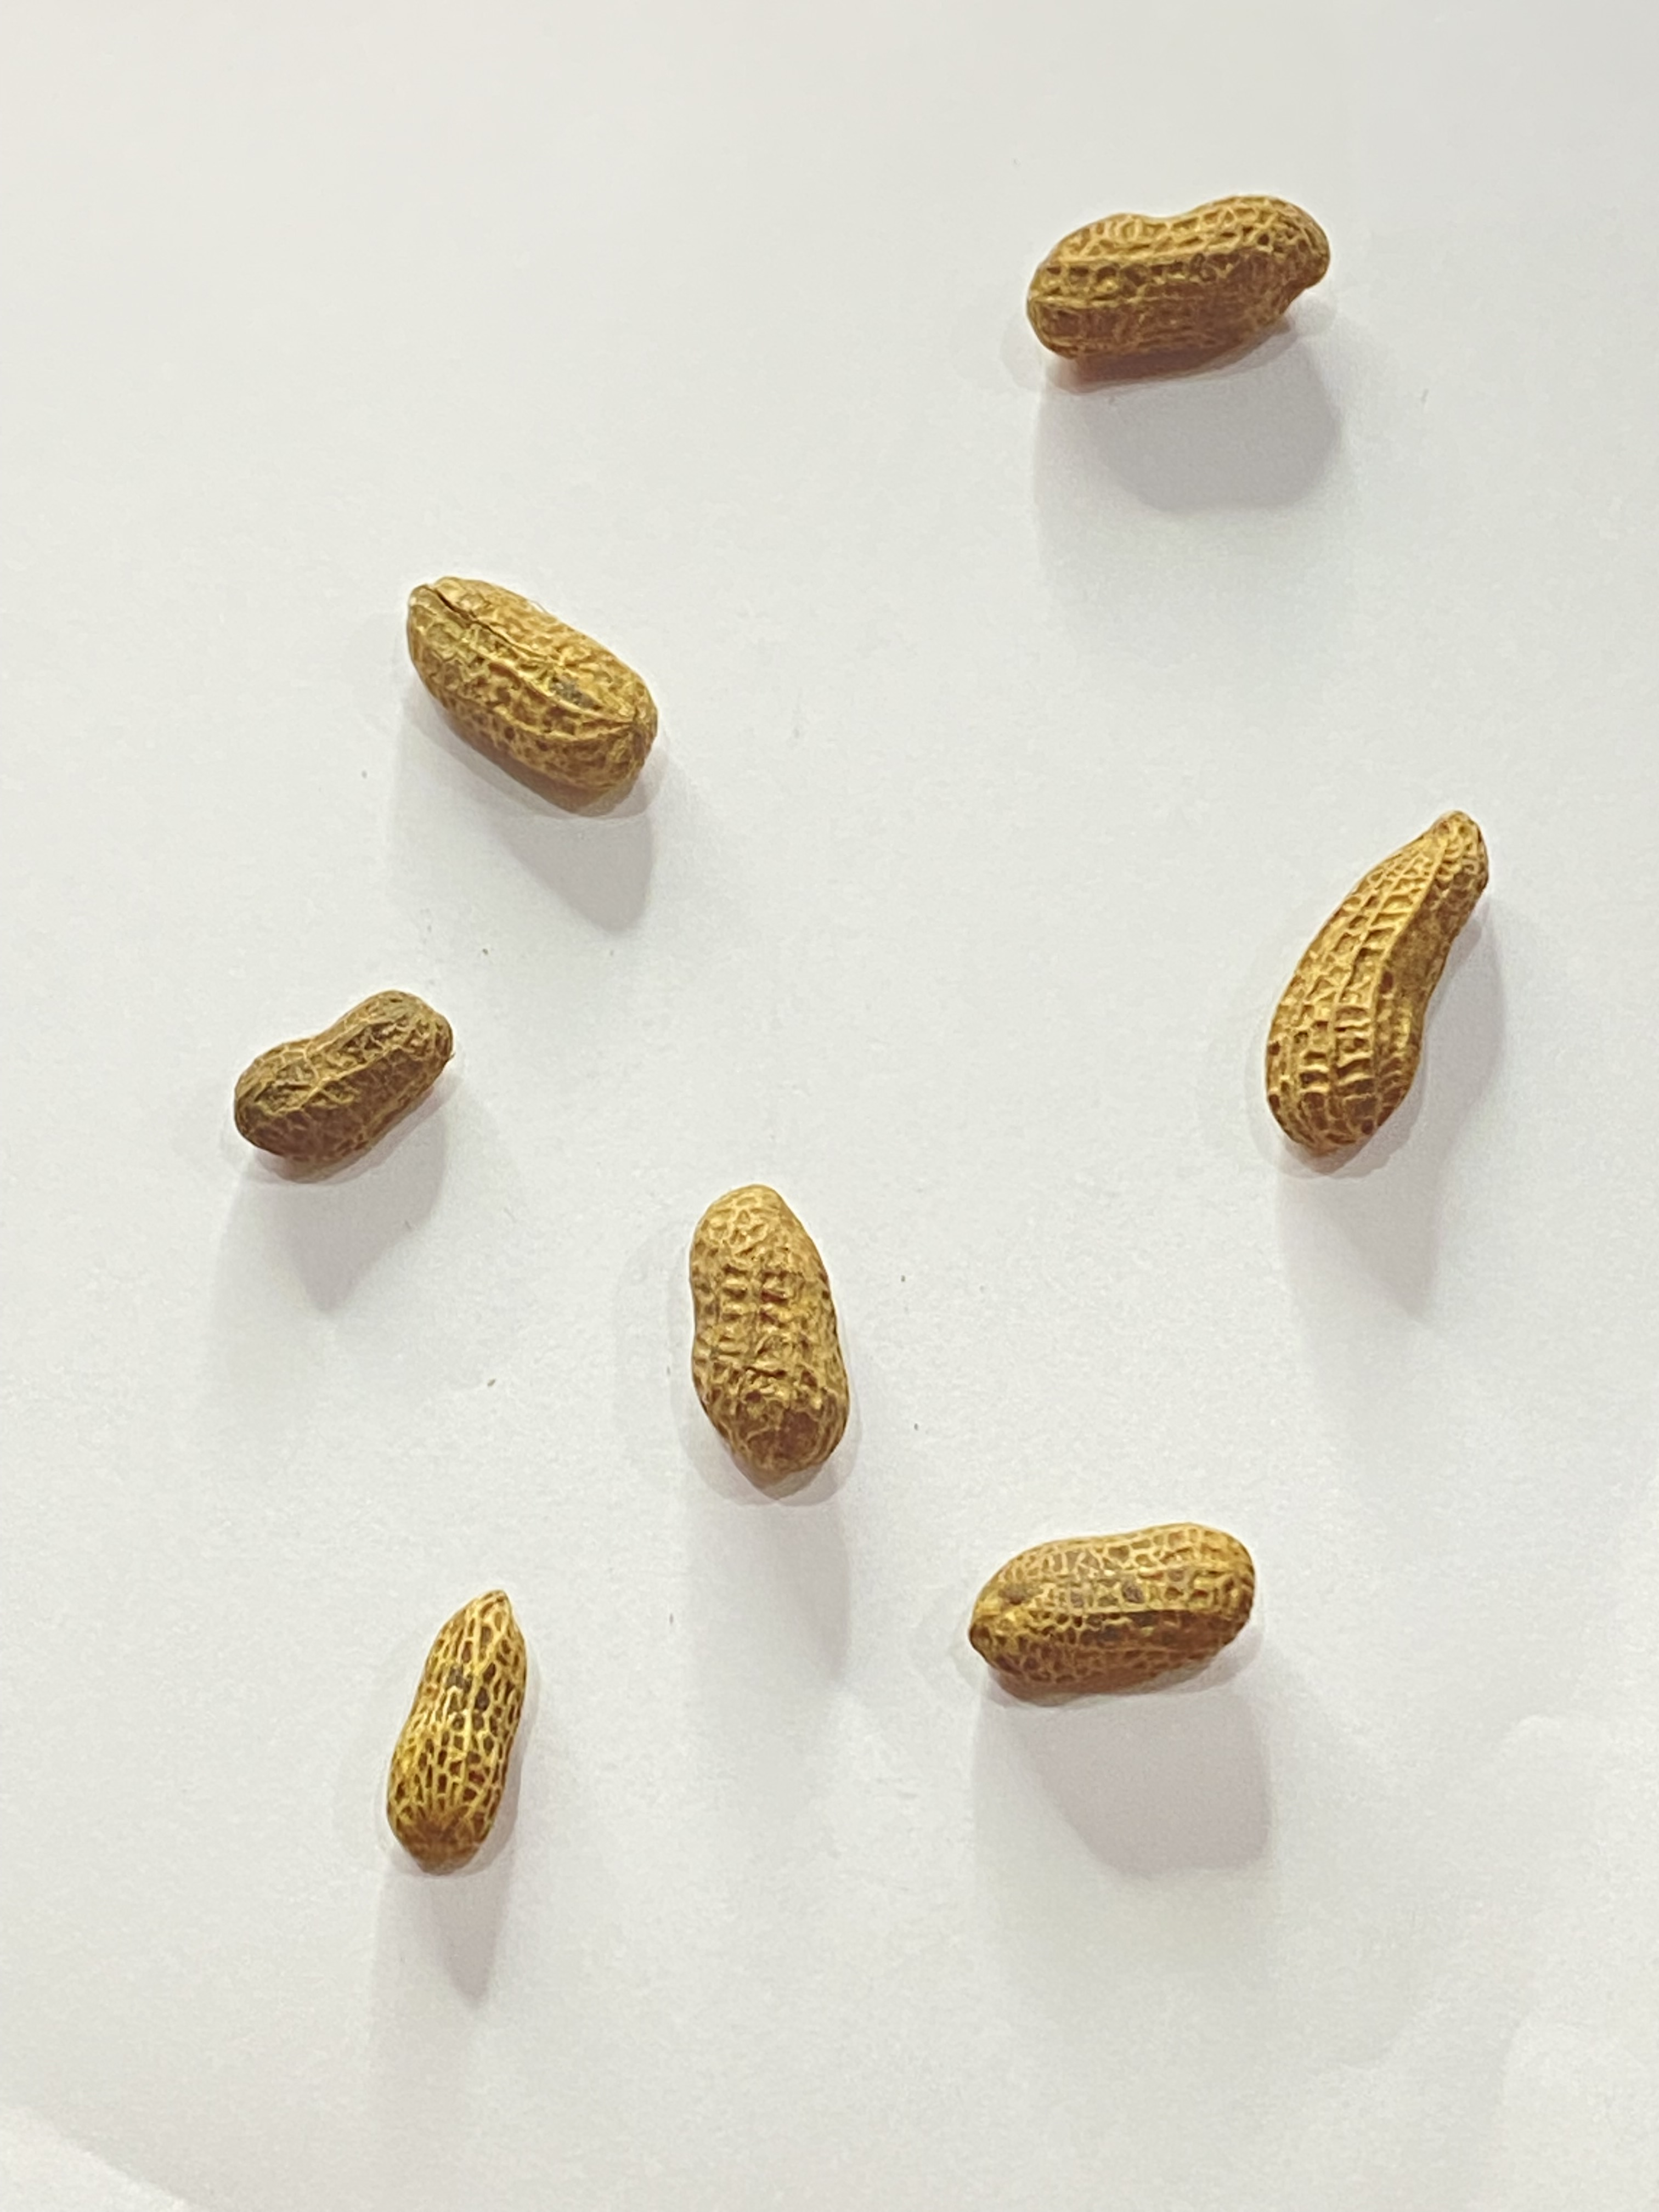kacang2: (1262, 794, 1486, 1157), (401, 552, 659, 794), (674, 1181, 856, 1480), (1016, 193, 1331, 364), (965, 1522, 1256, 1696), (389, 1559, 530, 1862), (228, 1000, 460, 1160)
